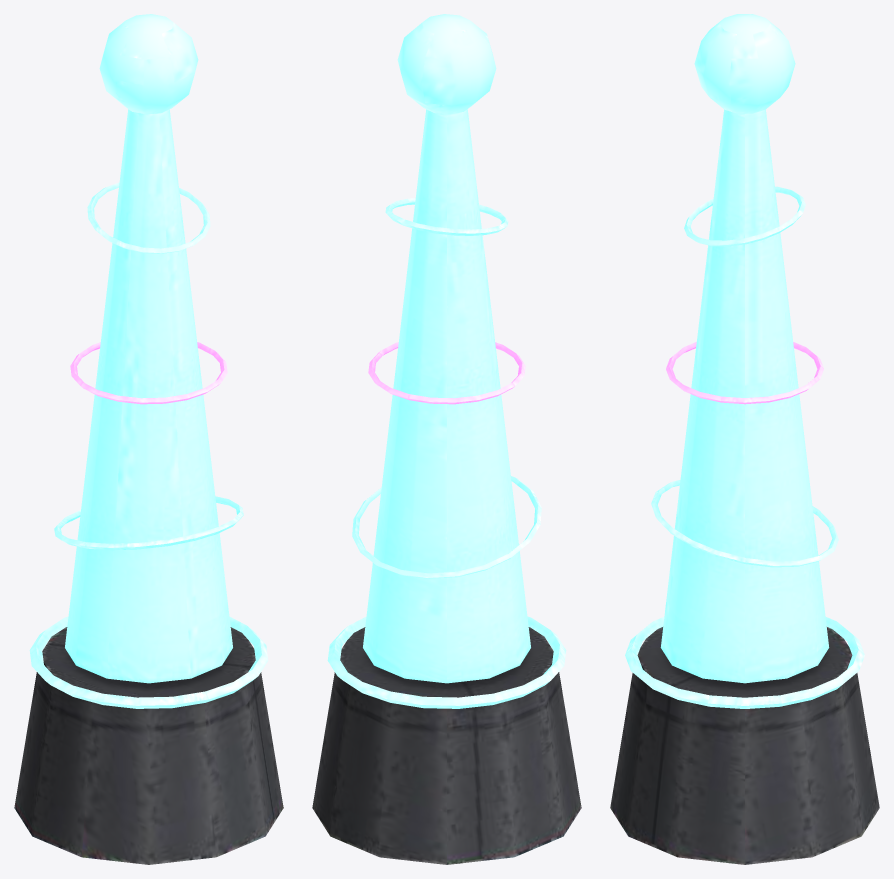
File: coluna_holo.glb
3 views of the same model, side by side, from view 1: azimuth 30°, elevation 25°; view 2: azimuth 150°, elevation 25°; view 3: azimuth 270°, elevation 25° (orthographic).
Visible parts, largest first — view 1: coluna_holo; view 2: coluna_holo; view 3: coluna_holo.
Part boxes in pixels (bbox=[...]): coluna_holo: bbox=[14, 14, 283, 864]; coluna_holo: bbox=[312, 14, 581, 864]; coluna_holo: bbox=[610, 14, 879, 864].
Size of the model in its own units: 0.64 by 2.07 by 0.64.
Materials: 1 (1 with a texture image).
